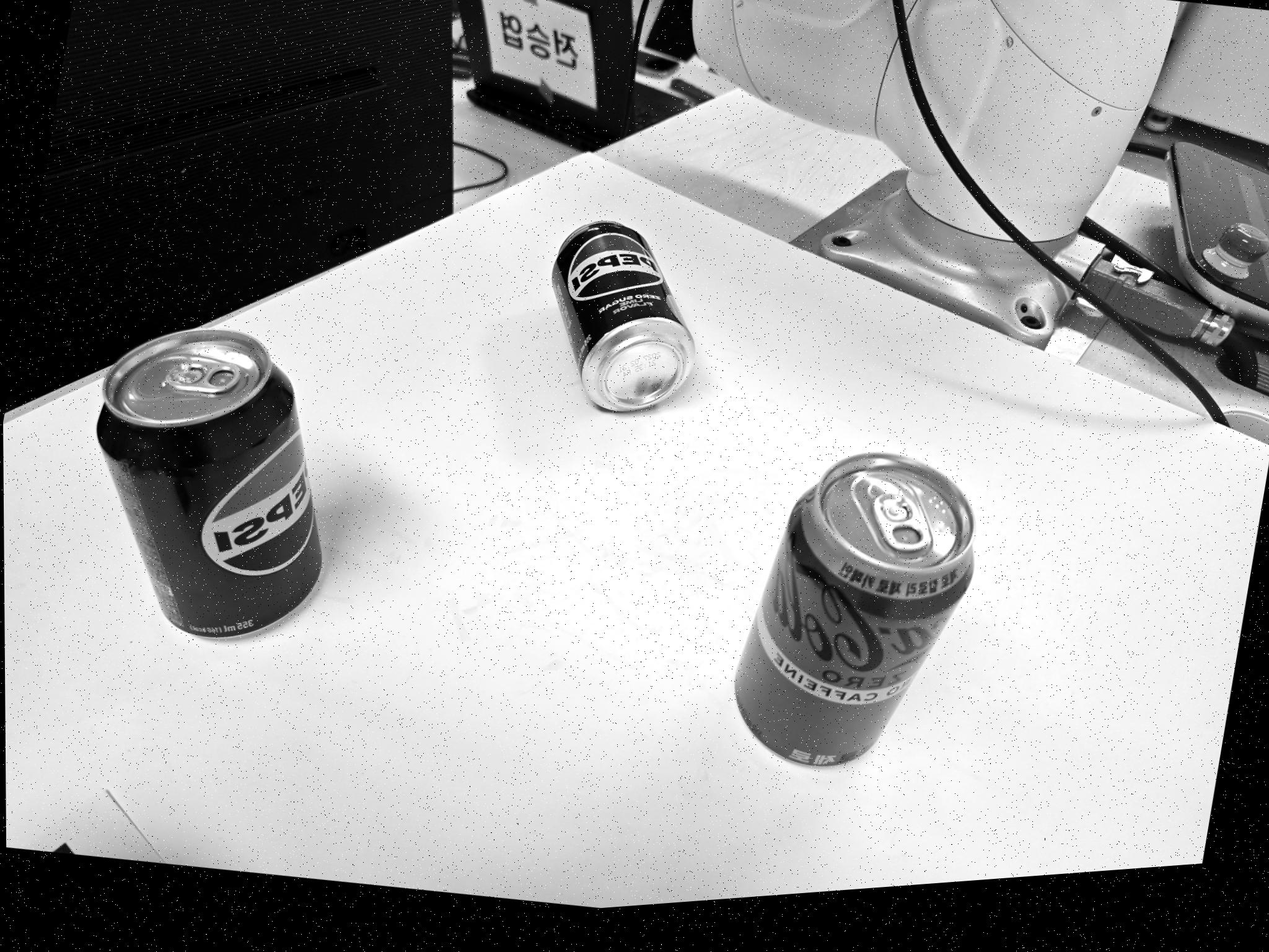can_coke_decaf: (733, 454, 973, 764)
can_pepsi: (92, 329, 323, 636)
can_pepsi_zero: (550, 219, 697, 408)
